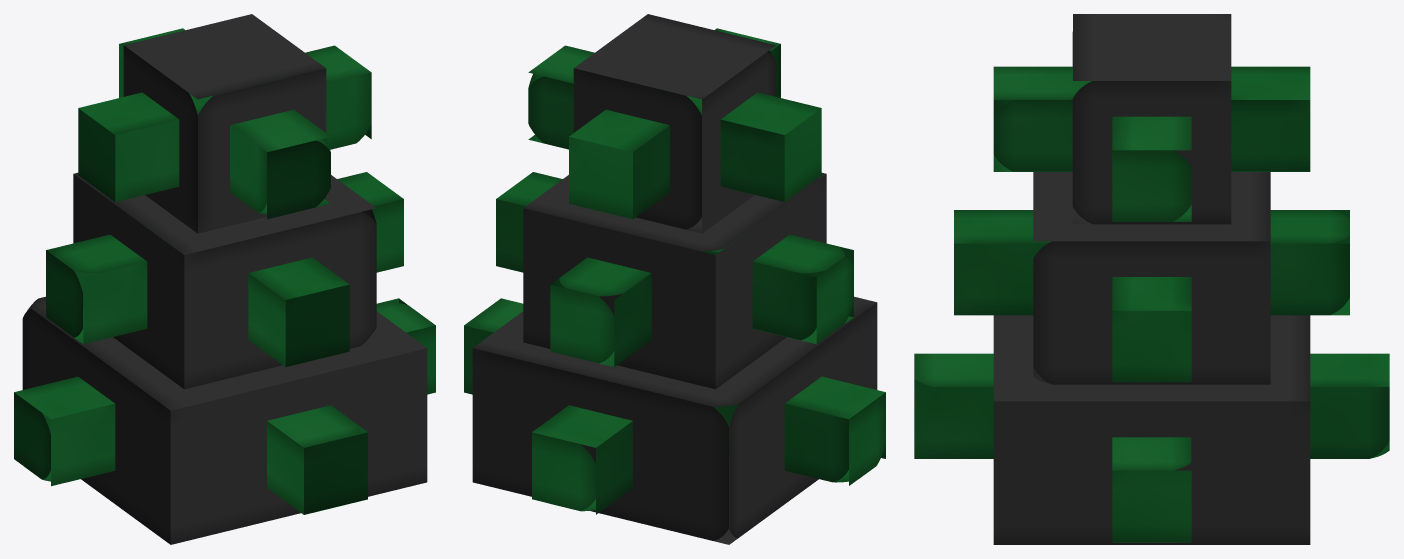
The model's file is missile_head_contagious.obj.
The picture shows the model from 3 angles, left to right: view 1: azimuth 30°, elevation 25°; view 2: azimuth 150°, elevation 25°; view 3: azimuth 270°, elevation 25°; orthographic projection. The views are drawn at different scales.
Parts seen in each view (by area): view 1: group_9, group_10, Component_36, group_11, Component_35, Component_34; view 2: group_9, group_10, Component_36, group_11, Component_35, Component_34; view 3: group_9, group_10, Component_35, group_11, Component_36, Component_34.
Boxes of the visible parts, x1,y1,x2,y2 form: group_9: (22, 296, 427, 544); group_10: (73, 172, 376, 389); Component_36: (78, 28, 371, 219); group_11: (123, 14, 326, 233); Component_35: (46, 172, 403, 367); Component_34: (14, 298, 435, 514); group_9: (472, 296, 877, 544); group_10: (523, 172, 826, 389); Component_36: (528, 28, 821, 219); group_11: (573, 14, 776, 233); Component_35: (496, 172, 853, 367); Component_34: (464, 298, 885, 514); group_9: (993, 315, 1310, 544); group_10: (1033, 172, 1270, 384); Component_35: (954, 210, 1349, 382); group_11: (1072, 14, 1231, 224); Component_36: (993, 66, 1310, 221); Component_34: (914, 353, 1389, 542).
Size of the model in its own units: 75.59 by 75.59 by 75.59.
